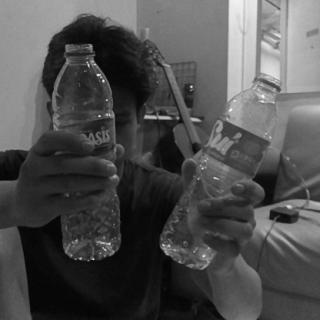plastic_bottles: (159, 74, 283, 270), (51, 41, 121, 263)
